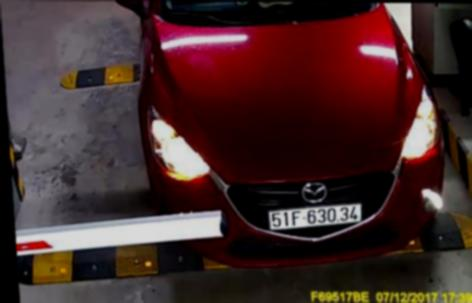License_Plate: (264, 201, 373, 232)
